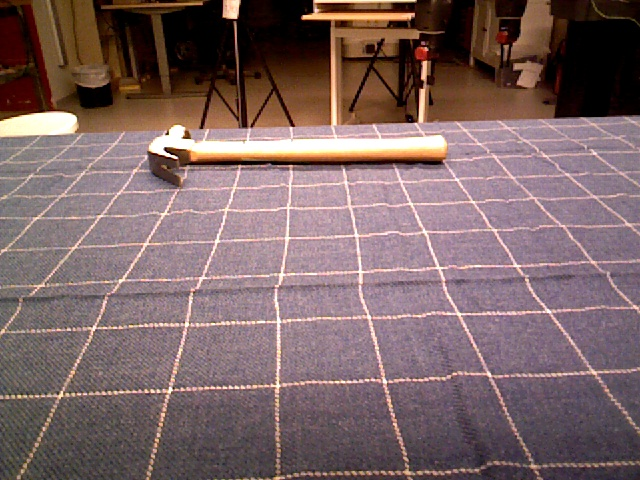hammer1: (148, 125, 448, 189)
